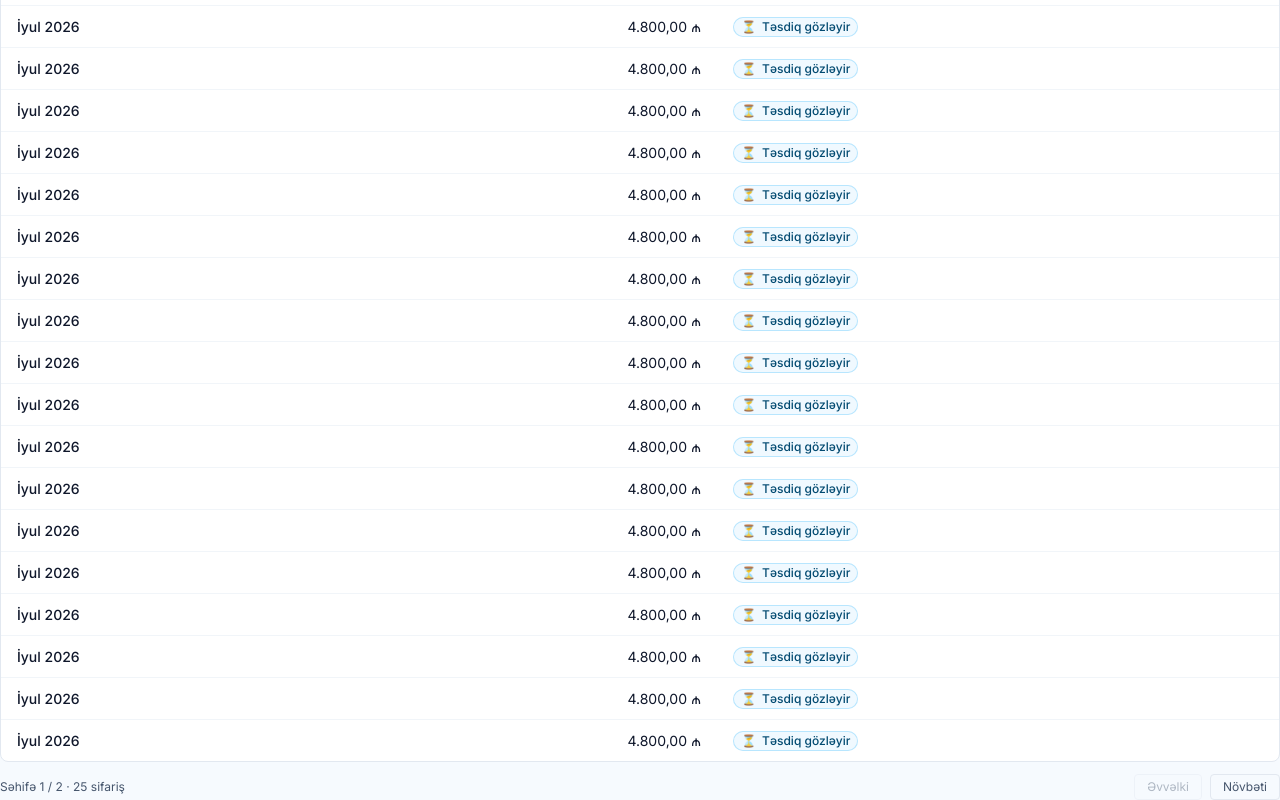
it: where the card and the strip are shown › not on the second page, where the first row is not the latest order
This screenshot has width=1280, height=800.
(page scrolled)
Click the button "Növbəti" at (1245, 787), box x1=1210 y1=774 x2=1279 y2=799
(page scrolled)
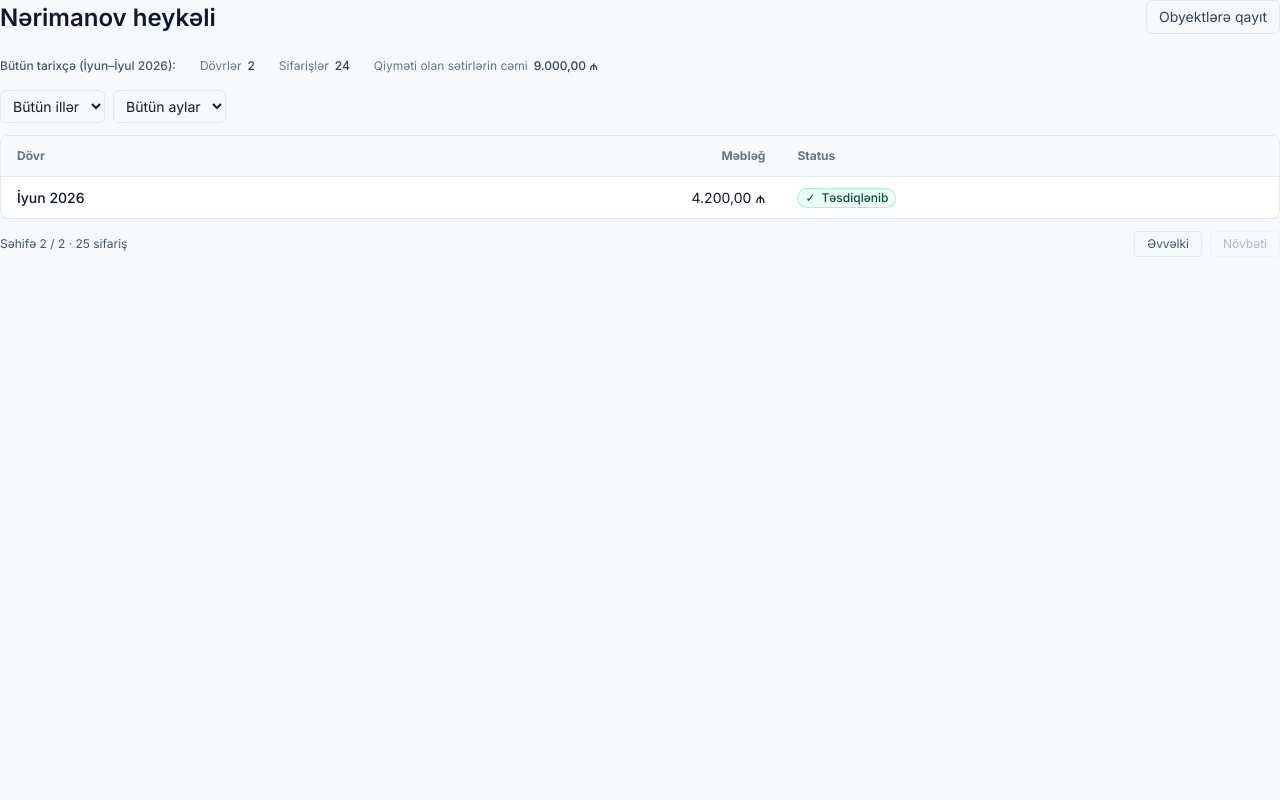
Result: the text "Səhifə 2 / 2 · 25 sifariş" is shown at x1=0 y1=236 x2=127 y2=252
